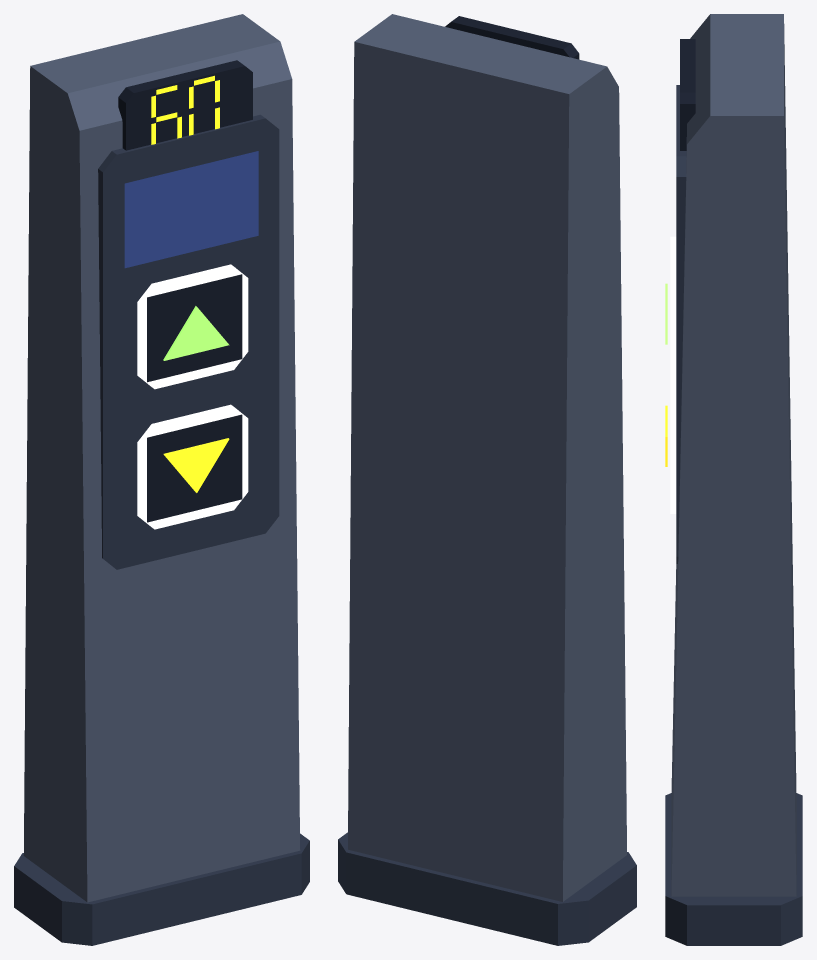
The model's file is off_elevator_call_panel.glb.
3 renders of one model, left to right at view 1: azimuth 30°, elevation 25°; view 2: azimuth 150°, elevation 25°; view 3: azimuth 270°, elevation 25°, orthographic. The views are drawn at different scales.
Parts seen in each view (by area): view 1: raked_pylon, control_face, button_cap, print, button_rim, digit, direction_key.001; view 2: raked_pylon, control_face, button_cap; view 3: raked_pylon, control_face, button_rim, button_cap.
Part boxes in pixels (x1,y1,x2,y2): raked_pylon: (23, 14, 300, 902); control_face: (14, 114, 309, 945); button_cap: (118, 60, 252, 522); print: (124, 151, 258, 268); button_rim: (137, 264, 248, 529); digit: (151, 75, 229, 492); direction_key.001: (163, 306, 229, 360); raked_pylon: (348, 14, 626, 901); control_face: (338, 832, 636, 945); button_cap: (445, 16, 579, 59); raked_pylon: (671, 14, 796, 896); control_face: (665, 85, 802, 945); button_rim: (670, 236, 676, 513); button_cap: (680, 39, 695, 150).
Size of the model in its own units: 0.45 by 1.45 by 0.22.
